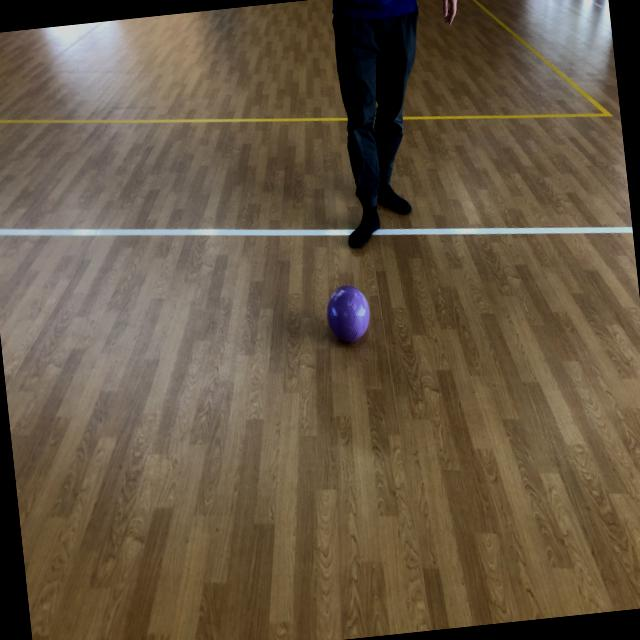purple_ball: (322, 281, 373, 346)
